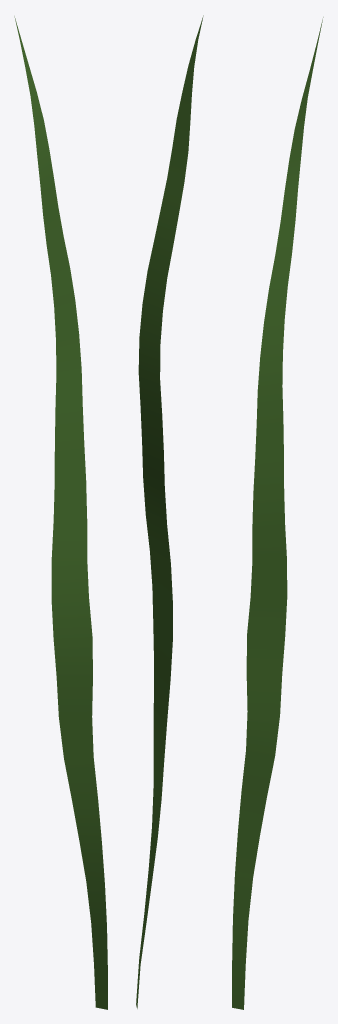
File: plant_swamp_kelp_giant_C_solo_B.fbx
The picture shows the model from 3 angles, left to right: view 1: azimuth 90°, elevation 25°; view 2: azimuth 210°, elevation 25°; view 3: azimuth 270°, elevation 25°; orthographic projection. The views are drawn at different scales.
Parts seen in each view (by area): view 1: plant_swamp_kelp_giant_C_solo_B; view 2: plant_swamp_kelp_giant_C_solo_B; view 3: plant_swamp_kelp_giant_C_solo_B.
Boxes of the visible parts, x1=… form: plant_swamp_kelp_giant_C_solo_B: x1=14, y1=16, x2=107, y2=1009; plant_swamp_kelp_giant_C_solo_B: x1=136, y1=15, x2=203, y2=1008; plant_swamp_kelp_giant_C_solo_B: x1=232, y1=17, x2=323, y2=1009.
Size of the model in its own units: 16.81 by 521 by 44.14.
